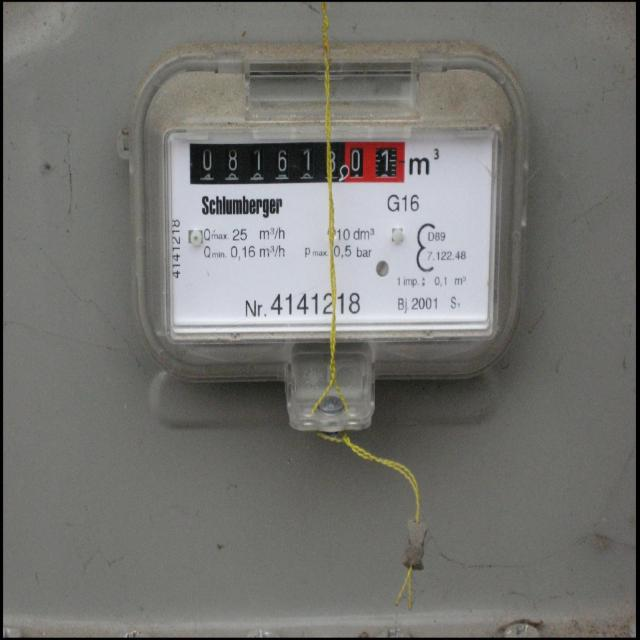gaz_meter: (163, 130, 498, 334)
indication: (189, 139, 406, 185)
